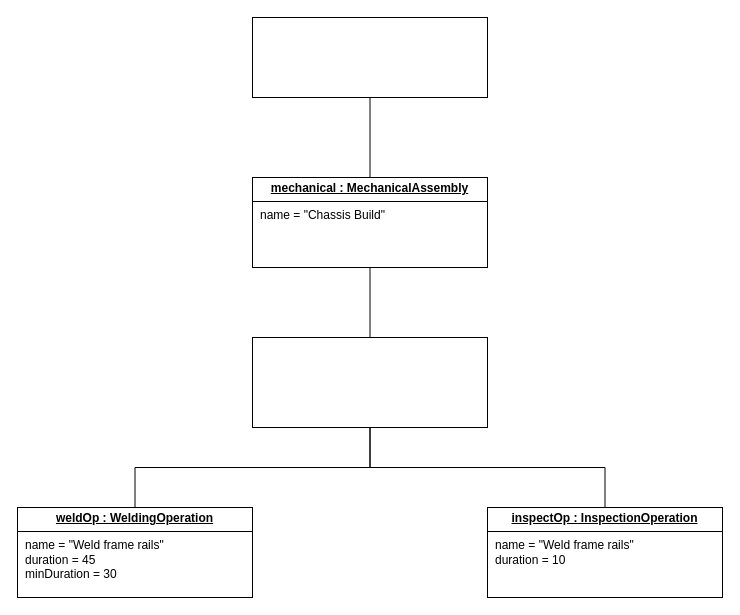
This 740x615 diagram has some shape labels left out. Each missing label, with the centre of its shape:
frameGroup : FrameSubGroup name = "Frame Sub-Group": pixel 370 382
order : ProductionOrder name = "Car Body Production" orderNumber = "PO-1042": pixel 370 57
